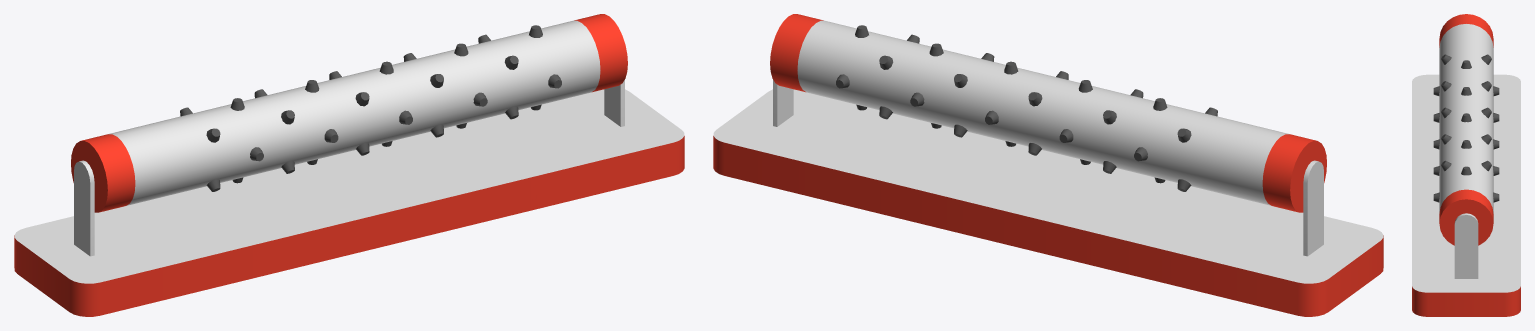
Rendered from Spike Bar C.fbx.
3 views of the same model, side by side, from view 1: azimuth 30°, elevation 25°; view 2: azimuth 150°, elevation 25°; view 3: azimuth 270°, elevation 25° (orthographic). The views are drawn at different scales.
Visible parts, largest first — view 1: Spike Bar C, Spike Bar.002 C; view 2: Spike Bar C, Spike Bar.002 C; view 3: Spike Bar C, Spike Bar.002 C.
Part boxes in pixels (x1,y1,x2,y2): Spike Bar C: (14,80,684,316); Spike Bar.002 C: (71,14,627,212); Spike Bar C: (713,80,1383,316); Spike Bar.002 C: (770,14,1326,212); Spike Bar C: (1412,74,1520,316); Spike Bar.002 C: (1433,14,1499,245).
Size of the model in its own units: 695 by 160 by 147.
